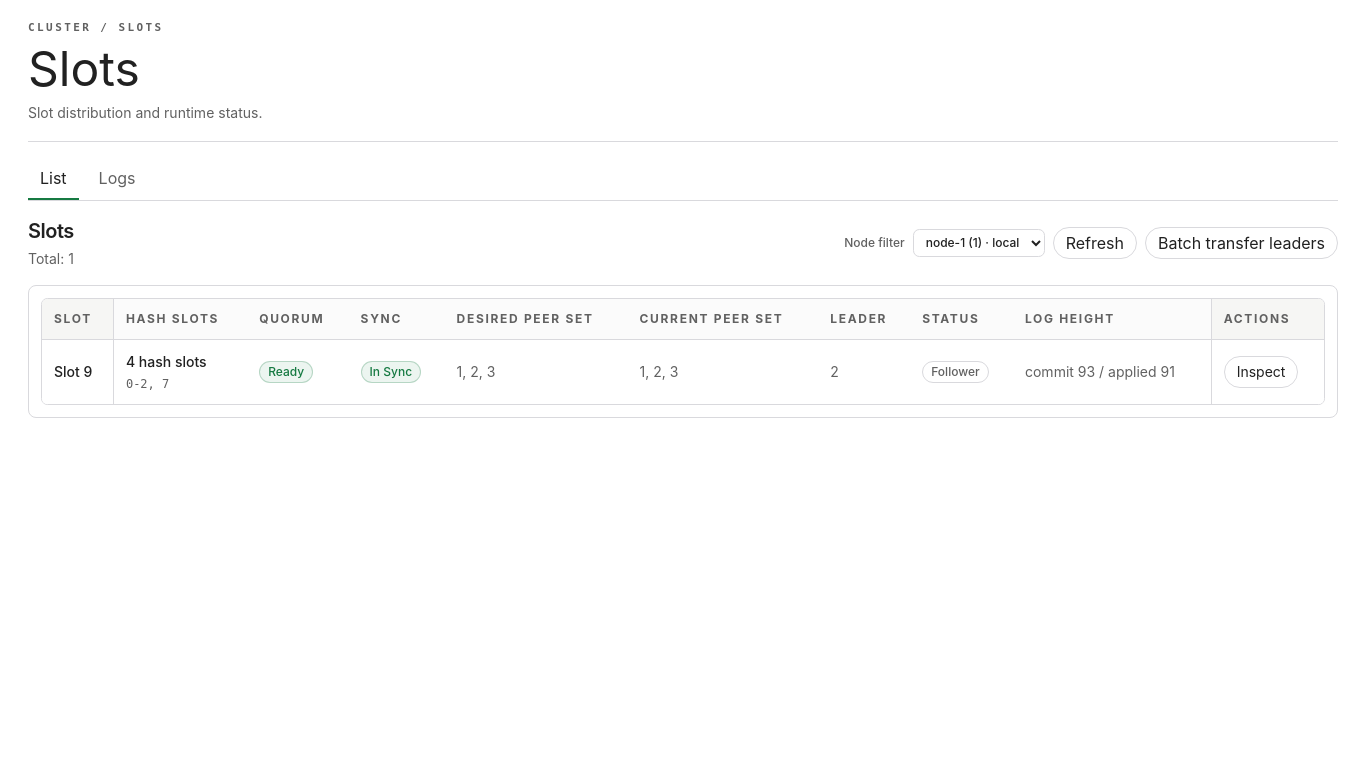
Test: opens slot detail without the moved slot log query
This screenshot has width=1366, height=768.
Expected: the text "Slot 9" is shown, [42, 339, 113, 404]
Click the button with aria-label "Inspect slot 9" at coordinates (1261, 372), box [1224, 356, 1298, 388]
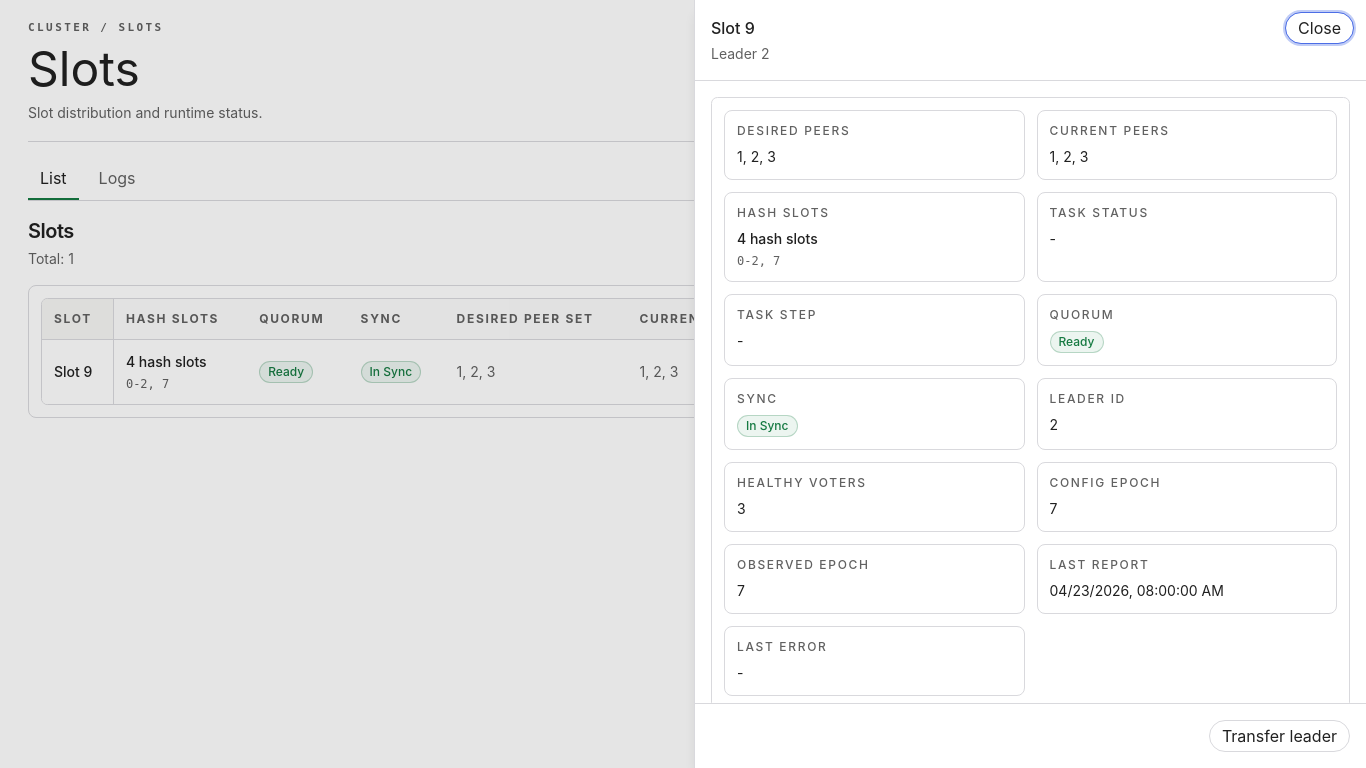
Now the text "Desired peers" is shown, box [737, 123, 850, 138]
Now the text "Leader 2" is shown, box [711, 45, 770, 62]
